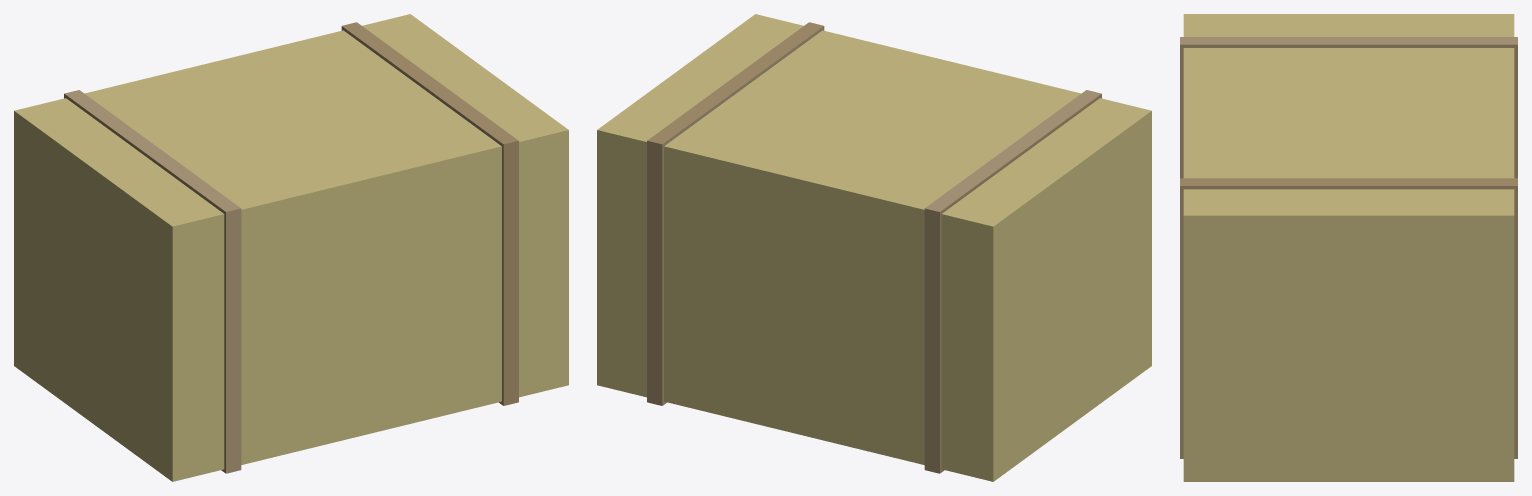
File: haybale.glb
3 renders of one model, left to right at view 1: azimuth 30°, elevation 25°; view 2: azimuth 150°, elevation 25°; view 3: azimuth 270°, elevation 25°, orthographic. The views are drawn at different scales.
Parts seen in each view (by area): view 1: haybale2; view 2: haybale2; view 3: haybale2.
Boxes of the visible parts, left/top/right/bottom form: haybale2: left=14, top=14, right=568, bottom=481; haybale2: left=597, top=14, right=1151, bottom=481; haybale2: left=1180, top=14, right=1517, bottom=481.
Size of the model in its own units: 1.3 by 0.82 by 0.92.
